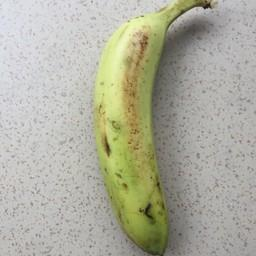Banana Ripe: (87, 0, 213, 256)
